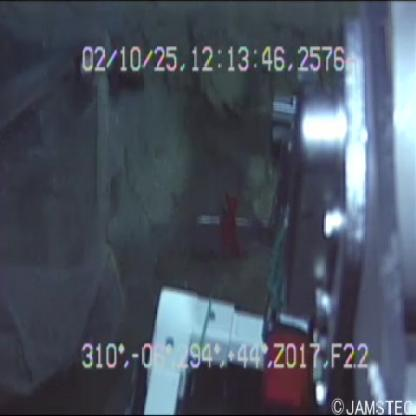Rov: (134, 7, 416, 414)
Rác: (1, 24, 142, 399)
